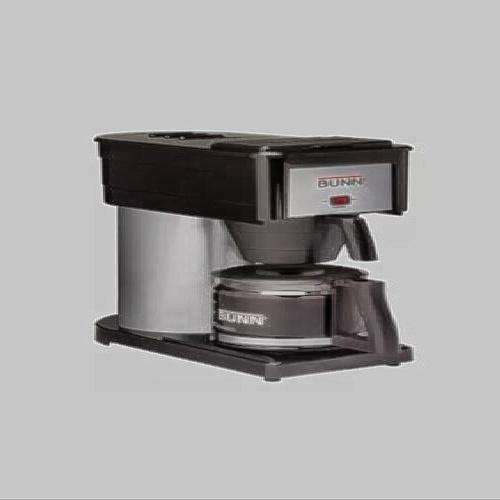chair: (87, 126, 428, 399)
